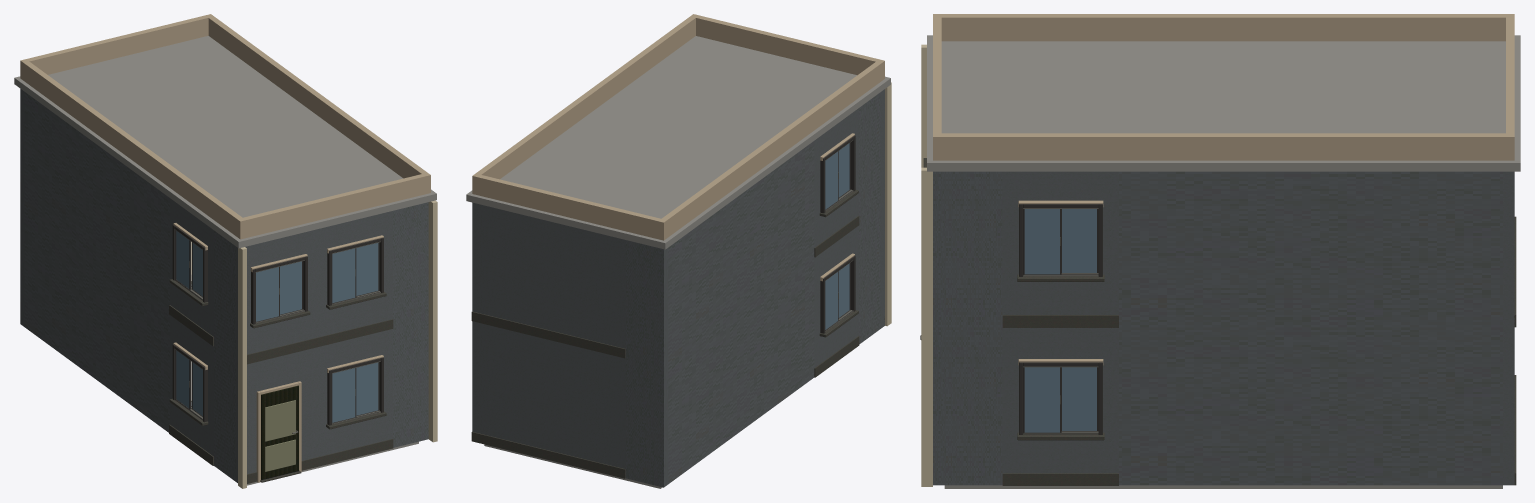
File: MS_HV_03_UrbanTownhouse.glb
3 views of the same model, side by side, from view 1: azimuth 30°, elevation 25°; view 2: azimuth 150°, elevation 25°; view 3: azimuth 270°, elevation 25° (orthographic). The views are drawn at different scales.
Visible parts, largest first — view 1: StaticBatch6, StaticBatch12, StaticBatch2, StaticBatch24, StaticBatch14, Plaster_005, StaticBatch7, RaisedPanel, StaticBatch3, Leaf_001, Glass_0015, Glass_001 (+15 smaller); view 2: StaticBatch2, StaticBatch6, StaticBatch12, StaticBatch24, StaticBatch14, StaticBatch4, StaticBatch8, Frame2, Frame6, StaticBatch3, StaticBatch7, Glass_0012 (+4 smaller); view 3: StaticBatch2, StaticBatch6, StaticBatch12, StaticBatch24, StaticBatch14, Glass_0013, Glass_0017, Glass3, Glass7, StaticBatch3, StaticBatch10, StaticBatch7 (+2 smaller).
Part boxes in pixels (x1,y1,x2,y2): StaticBatch6: [20, 89, 428, 363]; StaticBatch12: [14, 36, 436, 248]; StaticBatch2: [20, 205, 428, 481]; StaticBatch24: [20, 14, 430, 239]; StaticBatch14: [238, 200, 437, 488]; Plaster_005: [236, 347, 316, 482]; StaticBatch7: [169, 279, 393, 364]; RaisedPanel: [265, 400, 295, 471]; StaticBatch3: [169, 398, 393, 466]; Leaf_001: [261, 385, 298, 479]; Glass_0015: [332, 248, 355, 302]; Glass_001: [332, 368, 355, 422]; StaticBatch2: [472, 209, 880, 487]; StaticBatch6: [472, 89, 884, 367]; StaticBatch12: [466, 36, 890, 249]; StaticBatch24: [472, 14, 884, 240]; StaticBatch14: [885, 82, 891, 326]; StaticBatch4: [471, 431, 625, 478]; StaticBatch8: [471, 311, 625, 358]; Frame2: [820, 255, 855, 333]; Frame6: [820, 135, 855, 213]; StaticBatch3: [814, 310, 859, 377]; StaticBatch7: [814, 190, 859, 257]; Glass_0012: [825, 272, 837, 329]; StaticBatch2: [933, 327, 1514, 485]; StaticBatch6: [933, 171, 1514, 327]; StaticBatch12: [927, 35, 1520, 171]; StaticBatch24: [933, 14, 1514, 160]; StaticBatch14: [921, 44, 932, 486]; Glass_0013: [1024, 367, 1059, 432]; Glass_0017: [1024, 209, 1059, 274]; Glass3: [1062, 367, 1096, 430]; Glass7: [1062, 209, 1096, 272]; StaticBatch3: [1002, 432, 1118, 485]; StaticBatch10: [944, 485, 1502, 488]; StaticBatch7: [923, 158, 1118, 327].
Size of the model in its own units: 5.32 by 6.77 by 10.32.
Materials: 21 (5 with a texture image).
